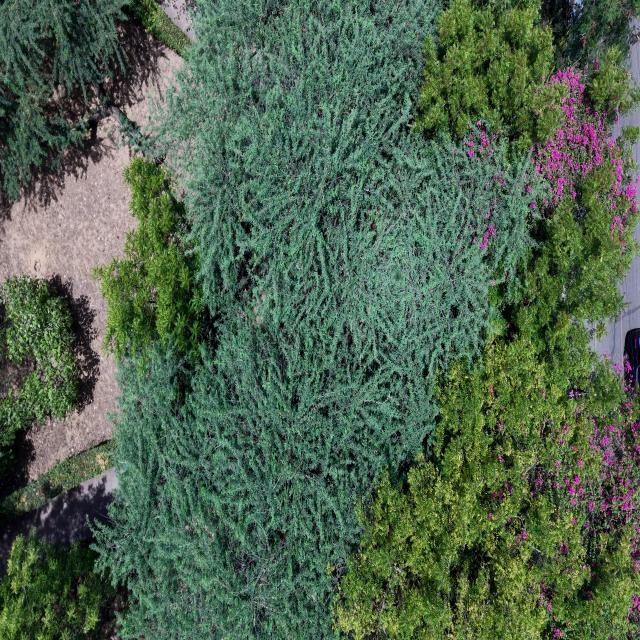DRY_AREA: (0, 126, 135, 492), (0, 129, 135, 493), (0, 468, 117, 576), (593, 255, 639, 363)
PATHWAYS: (0, 468, 117, 575)
VEGETATION_TREE: (95, 1, 638, 639), (103, 2, 539, 636), (334, 61, 639, 639), (160, 2, 531, 402), (335, 176, 639, 639), (336, 205, 638, 639), (335, 316, 637, 639), (417, 0, 636, 147), (0, 0, 125, 200), (94, 158, 202, 369), (534, 130, 638, 338), (417, 0, 562, 148), (534, 59, 639, 204), (0, 276, 78, 462), (0, 530, 113, 639), (0, 440, 115, 523), (542, 0, 638, 74), (86, 80, 155, 156), (130, 0, 191, 57), (0, 445, 14, 474)
